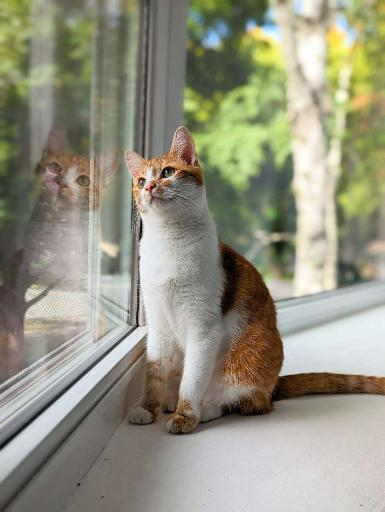cat_sitting: (124, 126, 385, 434)
